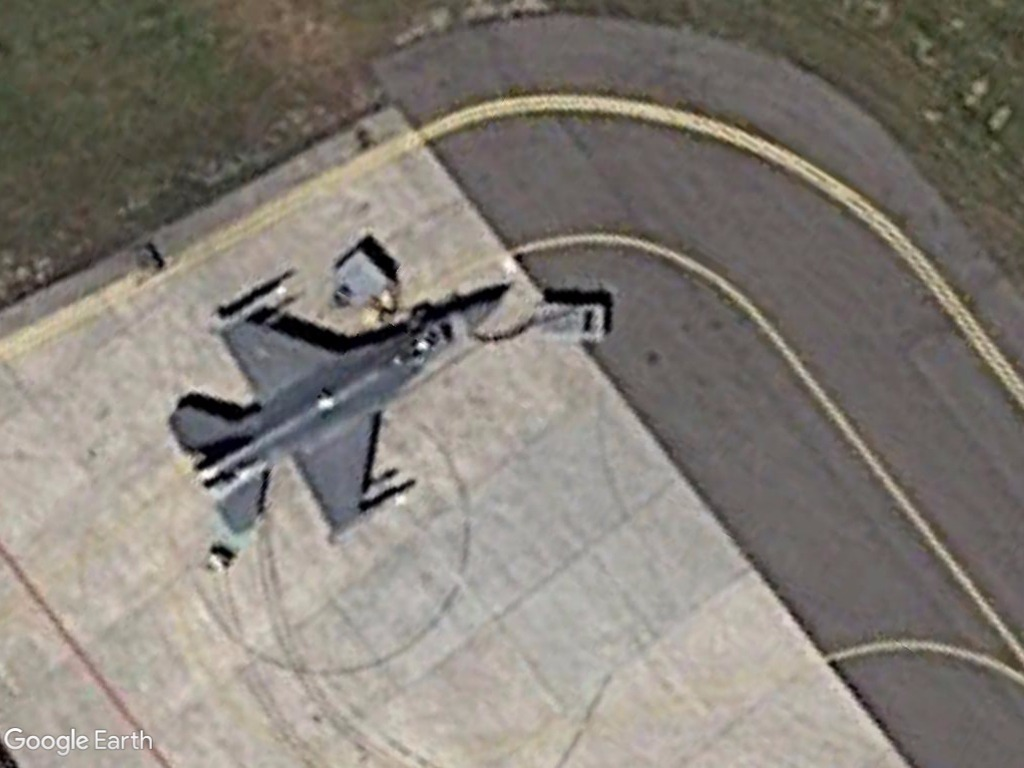fighter: (161, 266, 521, 553)
